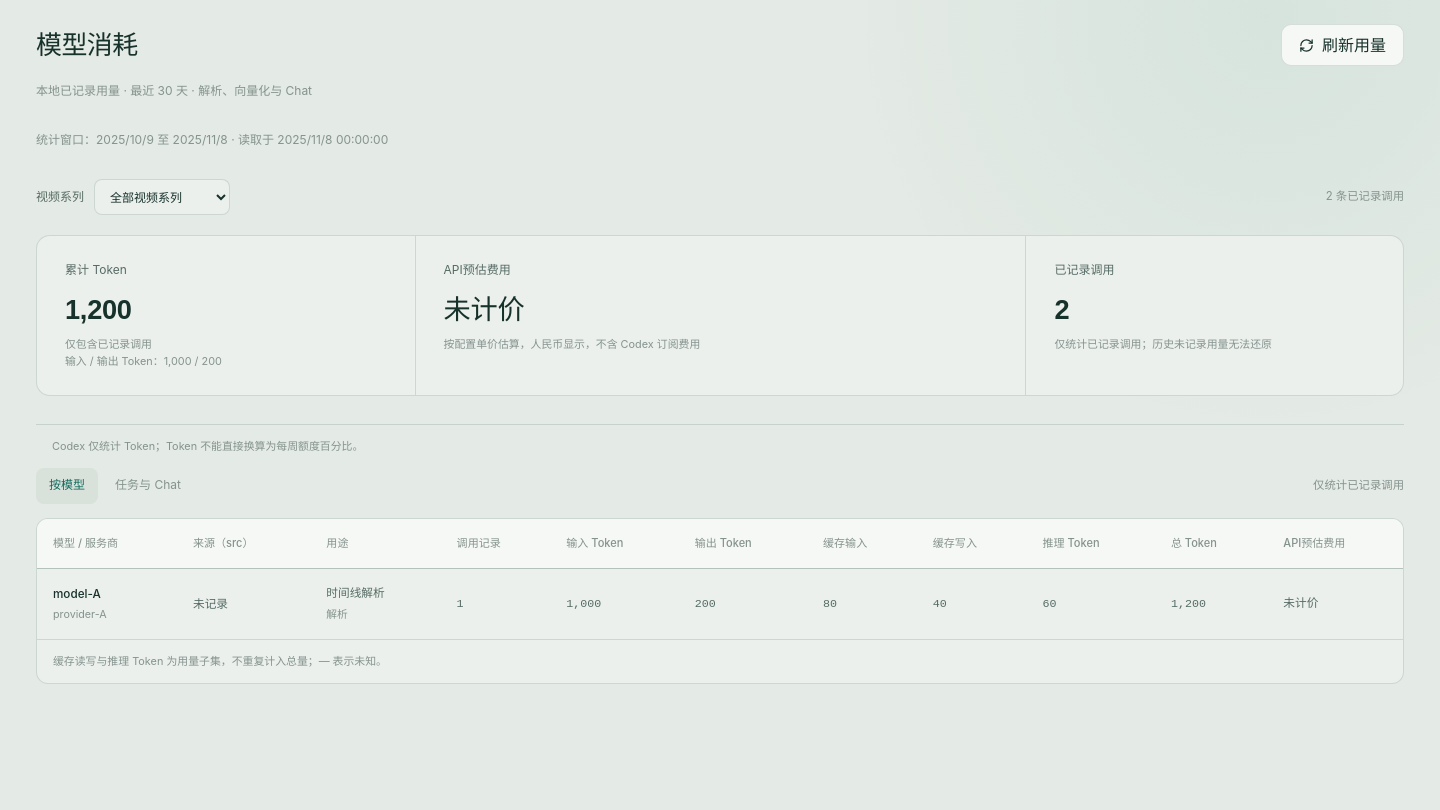
Scenario: local Token usage page › requests a series filter from the server while retaining the complete series options
The width and height of the screenshot is (1440, 810).
Check: the column heading "model-A" is shown, box top-left (53, 587), bottom-right (101, 601)
Select "series-B" in the dropdown labelled "视频系列" at (162, 197), box top-left (94, 179), bottom-right (230, 215)
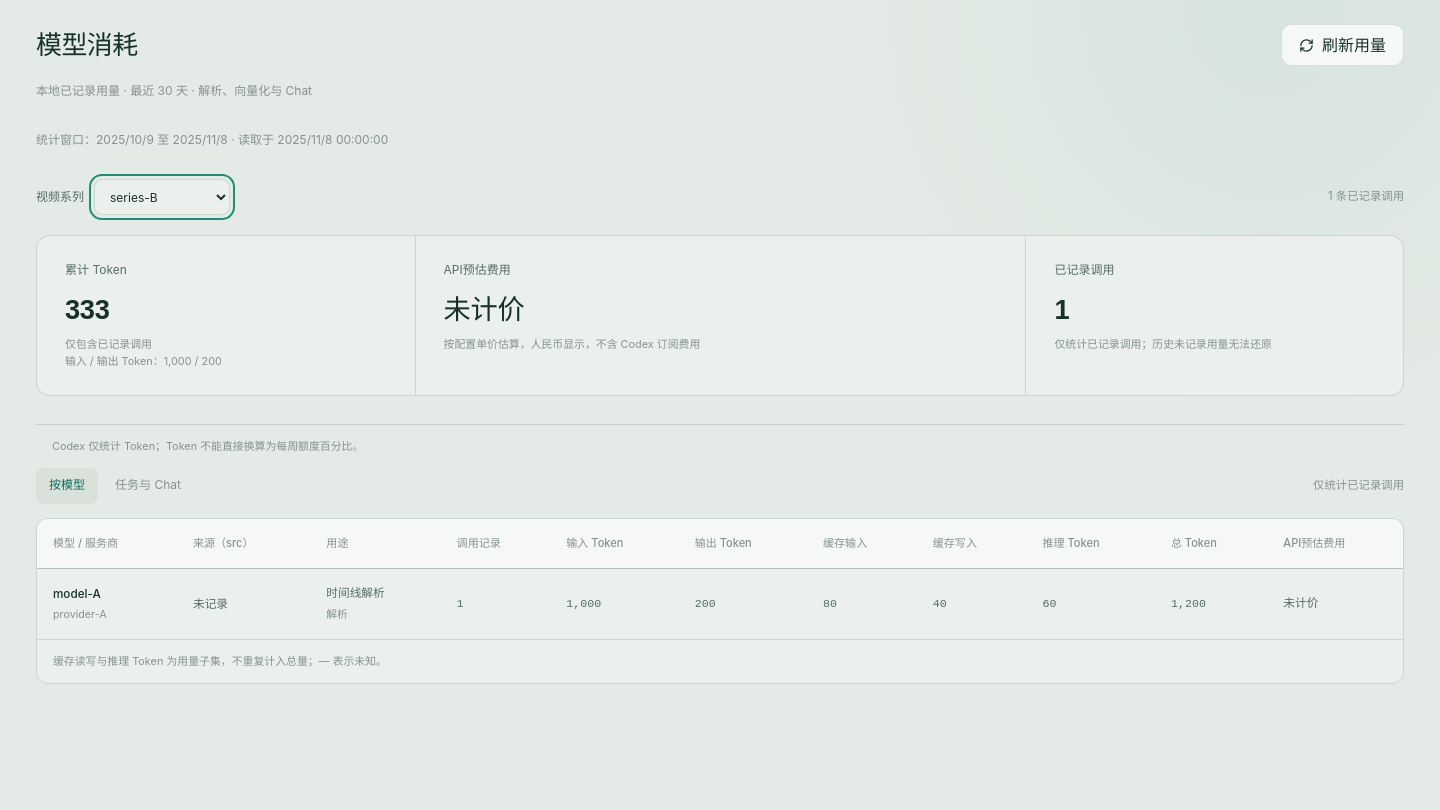
Check: the text "1 条已记录调用" is shown, box top-left (1328, 188), bottom-right (1404, 206)
Check: the text "333" is shown, box top-left (65, 294), bottom-right (110, 325)
Click the button "任务与 Chat" at (148, 486), box top-left (102, 468), bottom-right (194, 504)
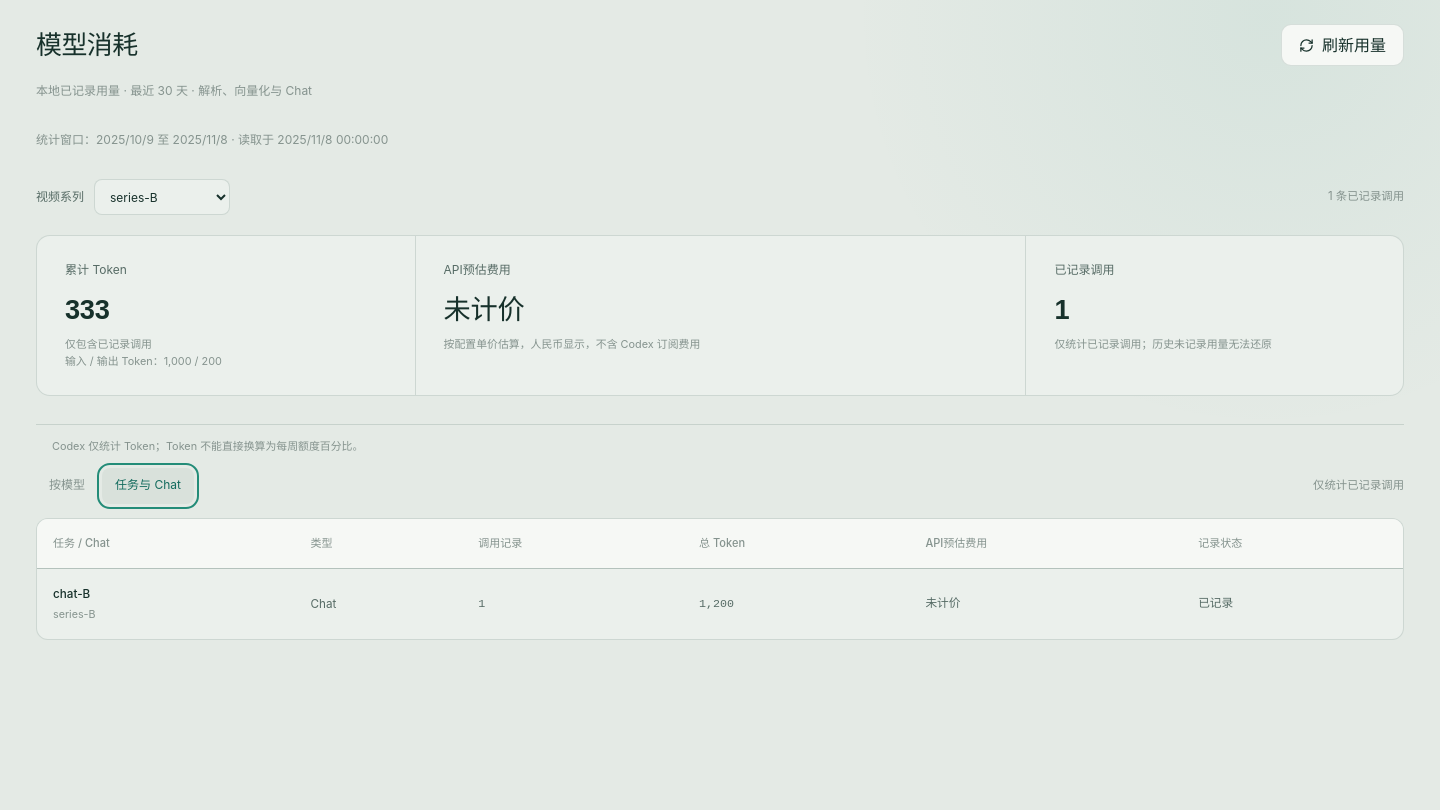
Check: the column heading "chat-B" is shown, box top-left (53, 587), bottom-right (90, 601)
